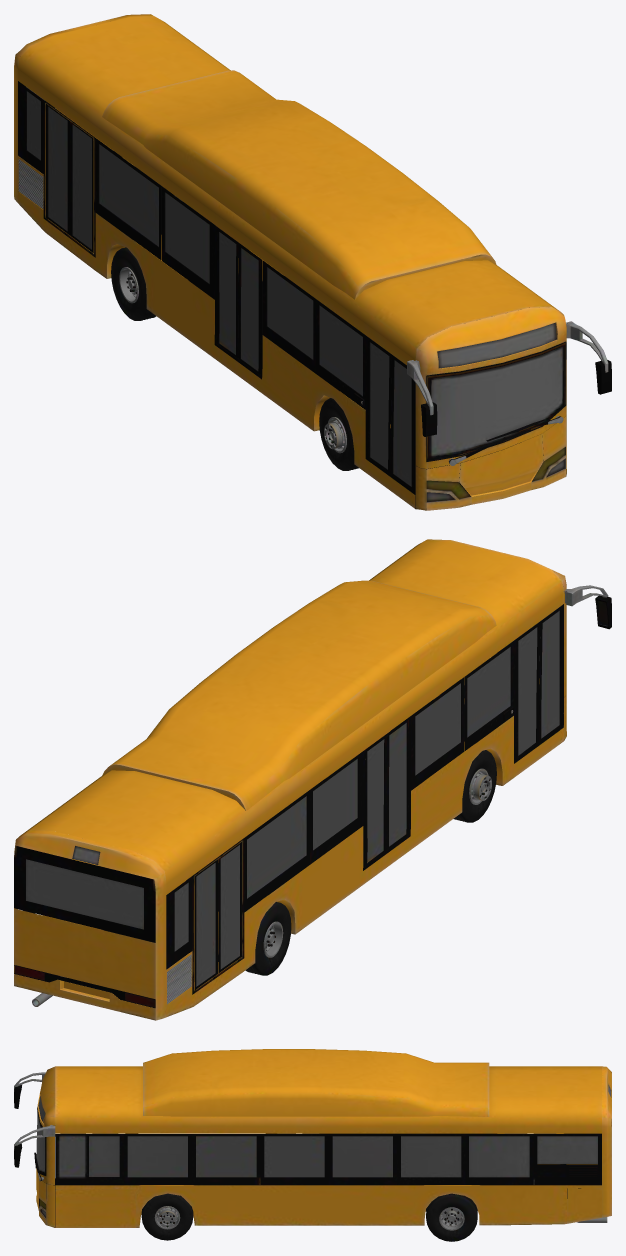
The model's file is bus_orange.glb.
The picture shows the model from 3 angles, top to bottom: view 1: azimuth 30°, elevation 25°; view 2: azimuth 150°, elevation 25°; view 3: azimuth 270°, elevation 25°; orthographic projection. The views are drawn at different scales.
Visible parts, largest first — view 1: citi_bus_body.001, city_bus_rear_wheel.001, city_bus_front_wheel.001; view 2: citi_bus_body.001, city_bus_rear_wheel.001, city_bus_front_wheel.001; view 3: citi_bus_body.001, city_bus_rear_wheel.001, city_bus_front_wheel.001.
Part boxes in pixels (<box>): citi_bus_body.001: <box>14,14,611,510</box>; city_bus_rear_wheel.001: <box>111,247,156,320</box>; city_bus_front_wheel.001: <box>319,398,358,470</box>; citi_bus_body.001: <box>14,539,611,1020</box>; city_bus_rear_wheel.001: <box>245,902,291,975</box>; city_bus_front_wheel.001: <box>453,750,496,822</box>; citi_bus_body.001: <box>14,1049,611,1227</box>; city_bus_rear_wheel.001: <box>426,1193,477,1241</box>; city_bus_front_wheel.001: <box>141,1193,193,1240</box>.
Size of the model in its own units: 3.07 by 3.42 by 12.36.
1 material, 1 textured.
